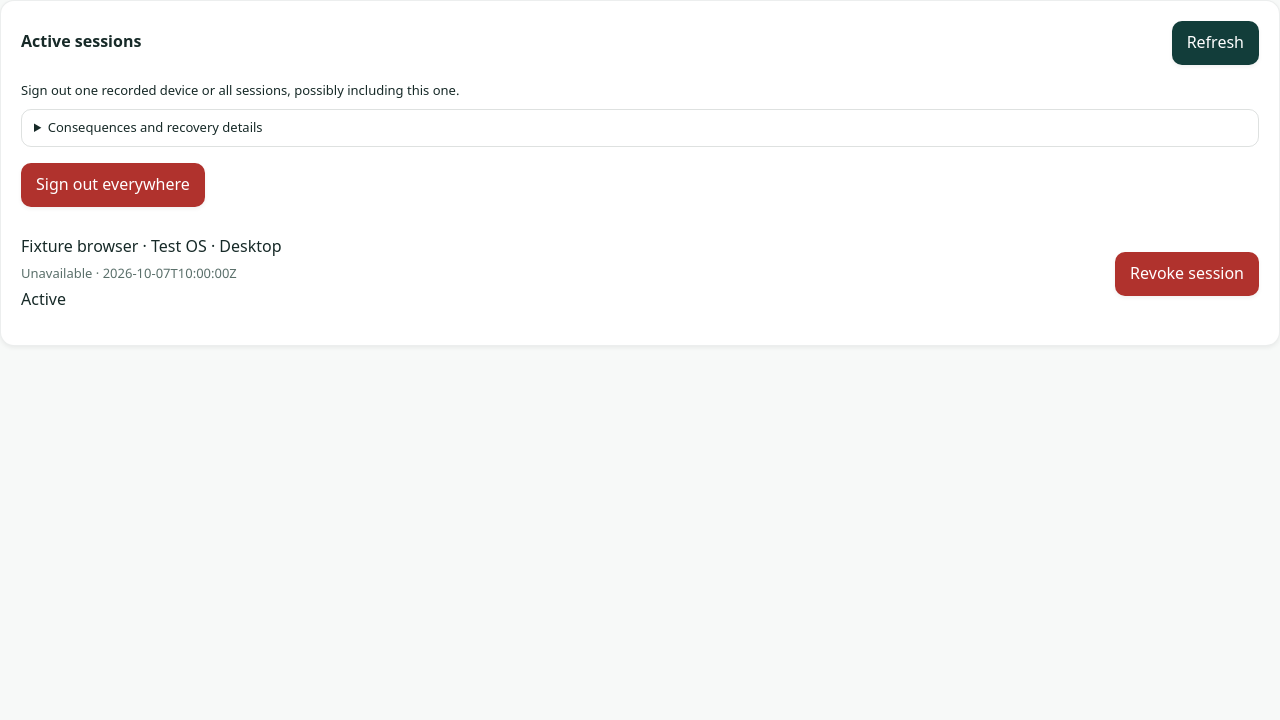
Test: same-scope background failure retains rows; forbidden hides them
Expected: the text "Fixture browser · Test OS · Desktop" is shown, [21, 230, 282, 264]
Click the button "Refresh" at [1215, 43], box [1172, 21, 1259, 65]
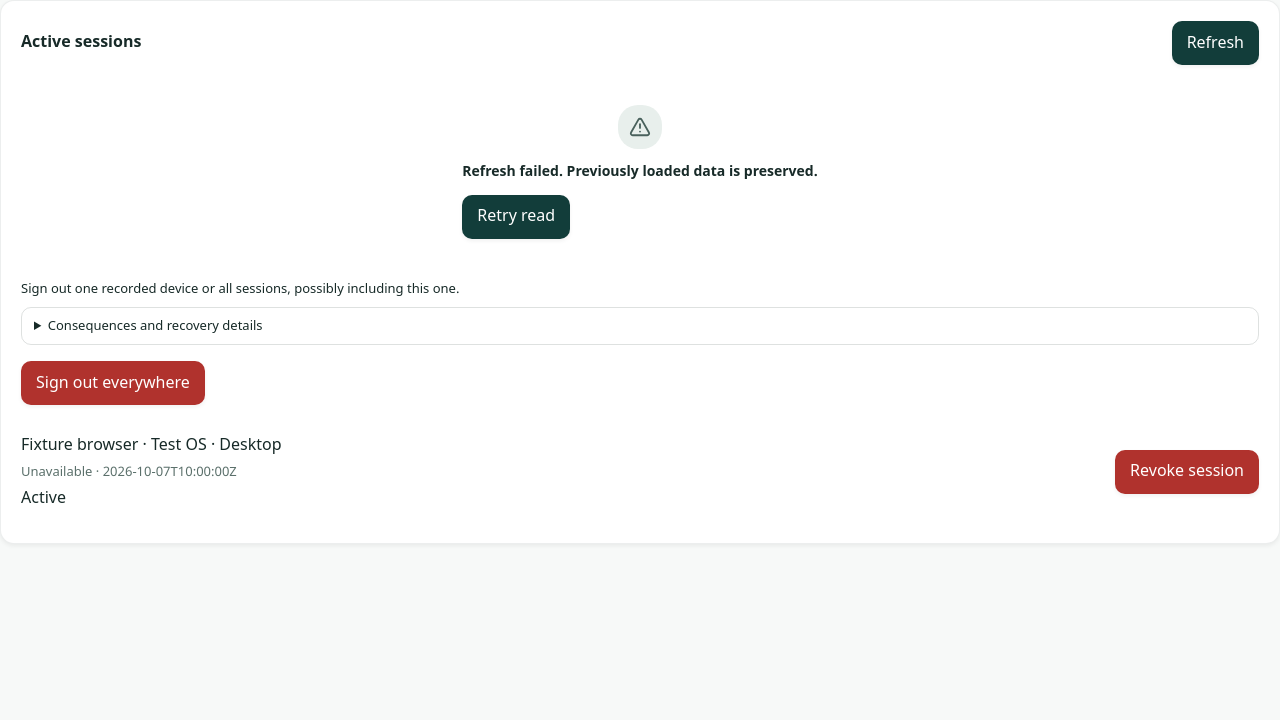
Expected: the text "Fixture browser · Test OS · Desktop" is shown, [21, 428, 282, 462]
Expected: the text "Refresh failed. Previously loaded data is preserved." is shown, [462, 161, 818, 183]
Click the button "Retry read" at [516, 217], box [462, 195, 570, 239]
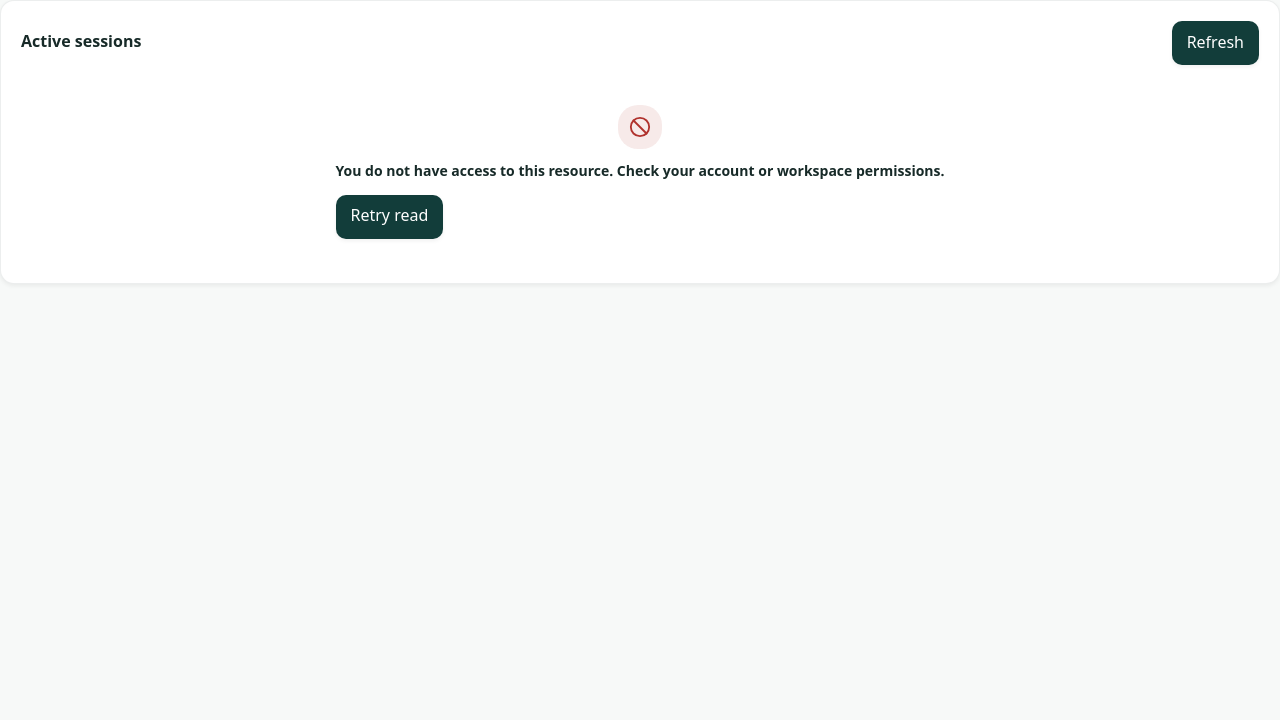
Expected: the text "Fixture browser · Test OS · Desktop" is gone
